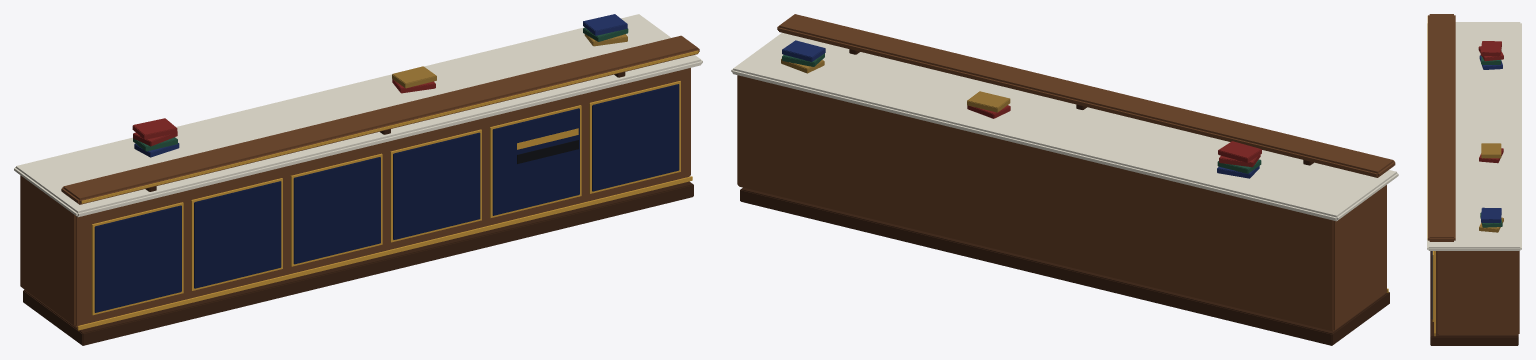
The model's file is counter.glb.
3 views of the same model, side by side, from view 1: azimuth 30°, elevation 25°; view 2: azimuth 150°, elevation 25°; view 3: azimuth 270°, elevation 25° (orthographic). The views are drawn at different scales.
Parts seen in each view (by area): view 1: counter_navy, counter_wood, counter_marble, counter_brass, counter_wood_dark, counter_books, counter_dark; view 2: counter_wood, counter_marble, counter_wood_dark, counter_books; view 3: counter_marble, counter_wood, counter_books, counter_wood_dark, counter_brass, counter_navy.
Boxes of the visible parts, <box> form: counter_navy: <box>94,84,679,312</box>; counter_wood: <box>20,35,699,326</box>; counter_marble: <box>14,14,702,217</box>; counter_brass: <box>77,50,698,330</box>; counter_wood_dark: <box>23,72,693,345</box>; counter_books: <box>132,14,628,157</box>; counter_dark: <box>517,140,578,163</box>; counter_wood: <box>737,14,1395,331</box>; counter_marble: <box>731,32,1398,221</box>; counter_wood_dark: <box>740,49,1389,345</box>; counter_books: <box>781,40,1261,178</box>; counter_marble: <box>1427,22,1521,250</box>; counter_wood: <box>1428,14,1519,334</box>; counter_books: <box>1478,41,1503,232</box>; counter_wood_dark: <box>1430,251,1518,345</box>; counter_brass: <box>1427,16,1435,336</box>; counter_navy: <box>1431,251,1432,319</box>.
Size of the model in its own units: 5.08 by 1.25 by 0.9.
